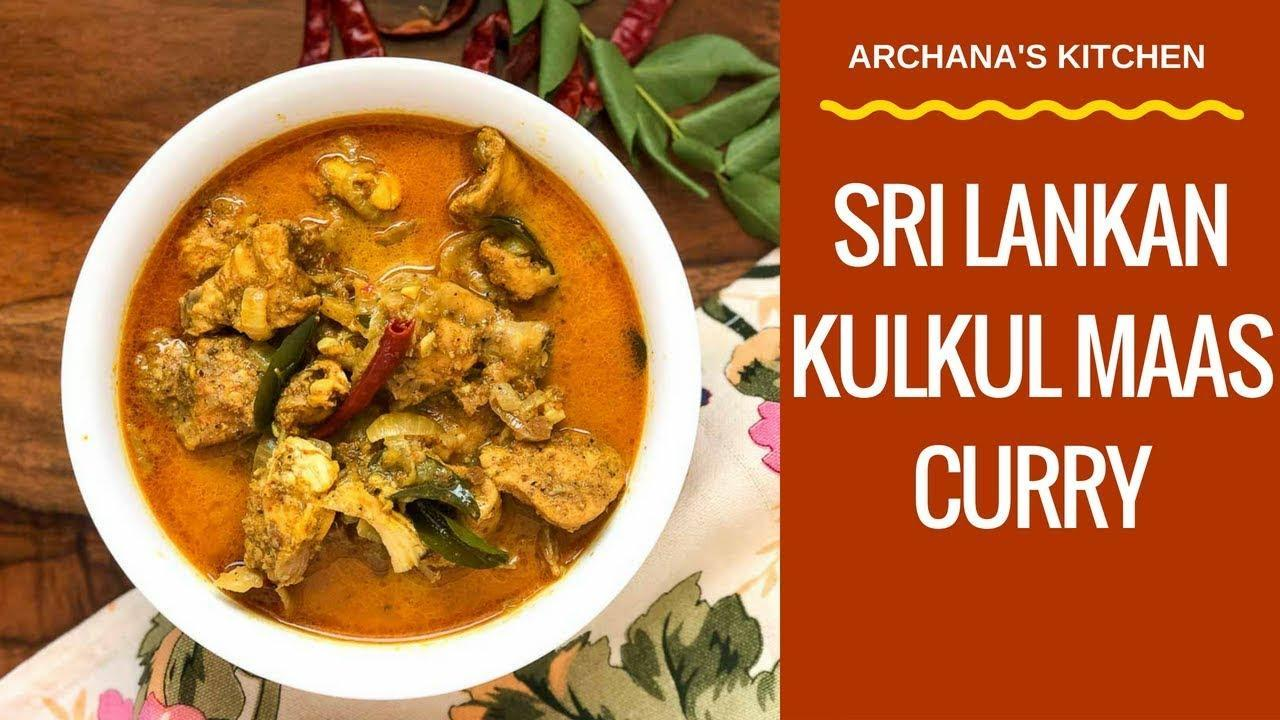chicken: (132, 117, 648, 640)
